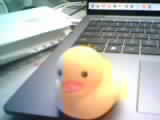duck: (41, 41, 119, 115)
